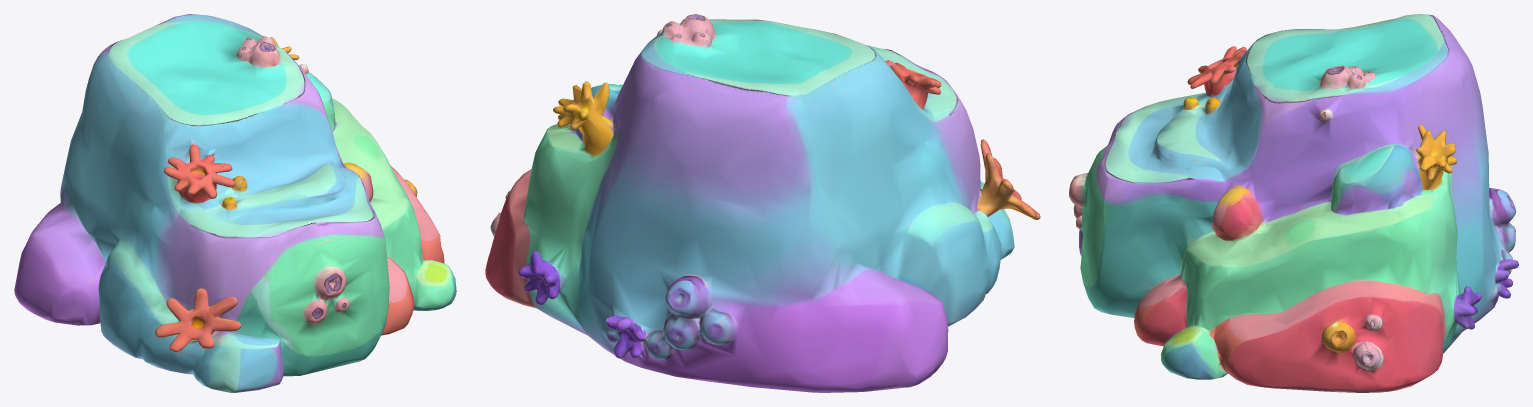
The model's file is rock_largea.glb.
3 renders of one model, left to right at view 1: azimuth 30°, elevation 25°; view 2: azimuth 150°, elevation 25°; view 3: azimuth 270°, elevation 25°, orthographic. The views are drawn at different scales.
Parts seen in each view (by area): view 1: Mesh_0; view 2: Mesh_0; view 3: Mesh_0.
Part boxes in pixels (left/top/right/bottom): Mesh_0: left=14, top=14, right=456, bottom=392; Mesh_0: left=485, top=14, right=1040, bottom=392; Mesh_0: left=1069, top=14, right=1518, bottom=392.
Bounding box in the file's own units: 1.9 × 1.12 × 1.84.
1 material, 1 textured.
